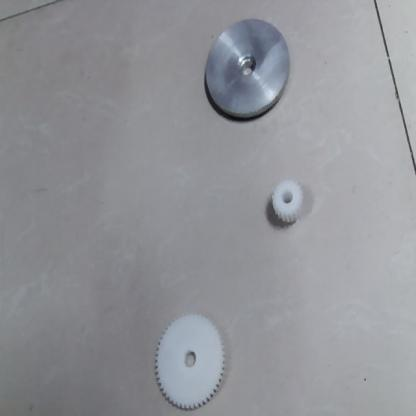FOD: (201, 16, 293, 126), (154, 308, 232, 414), (265, 175, 310, 233)
